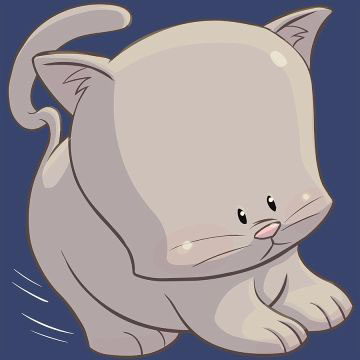cat: (2, 1, 355, 357)
